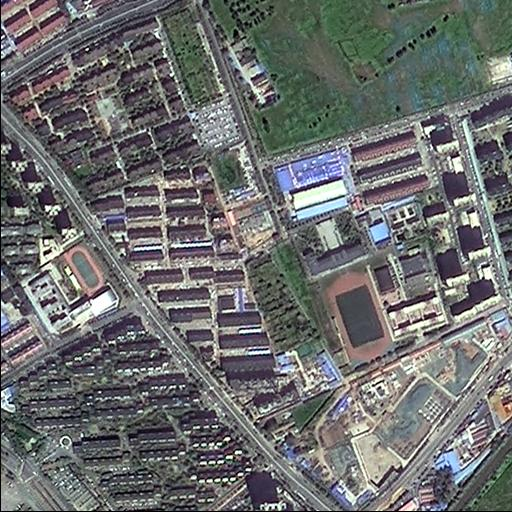school: (290, 198, 452, 369), (17, 238, 128, 346)
